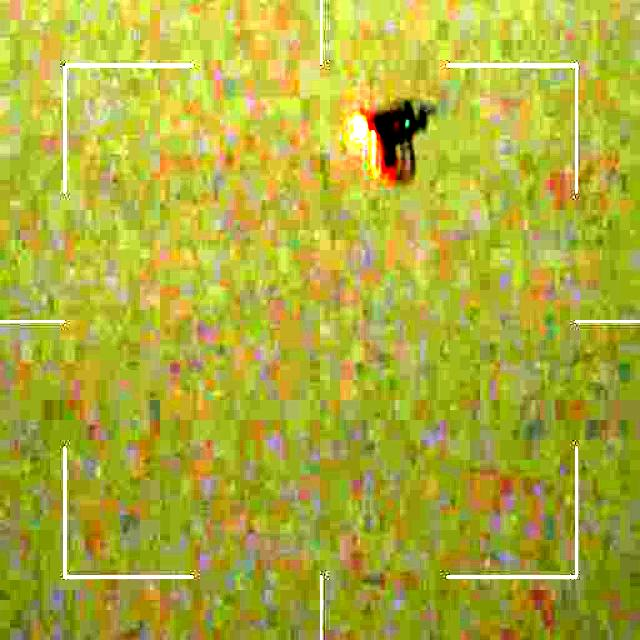bird: (342, 91, 440, 181)
